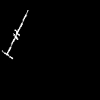treble_crochet: (4, 11, 27, 58)
